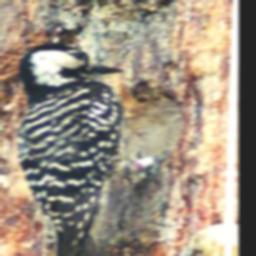Woodpecker: (1, 34, 180, 256)
